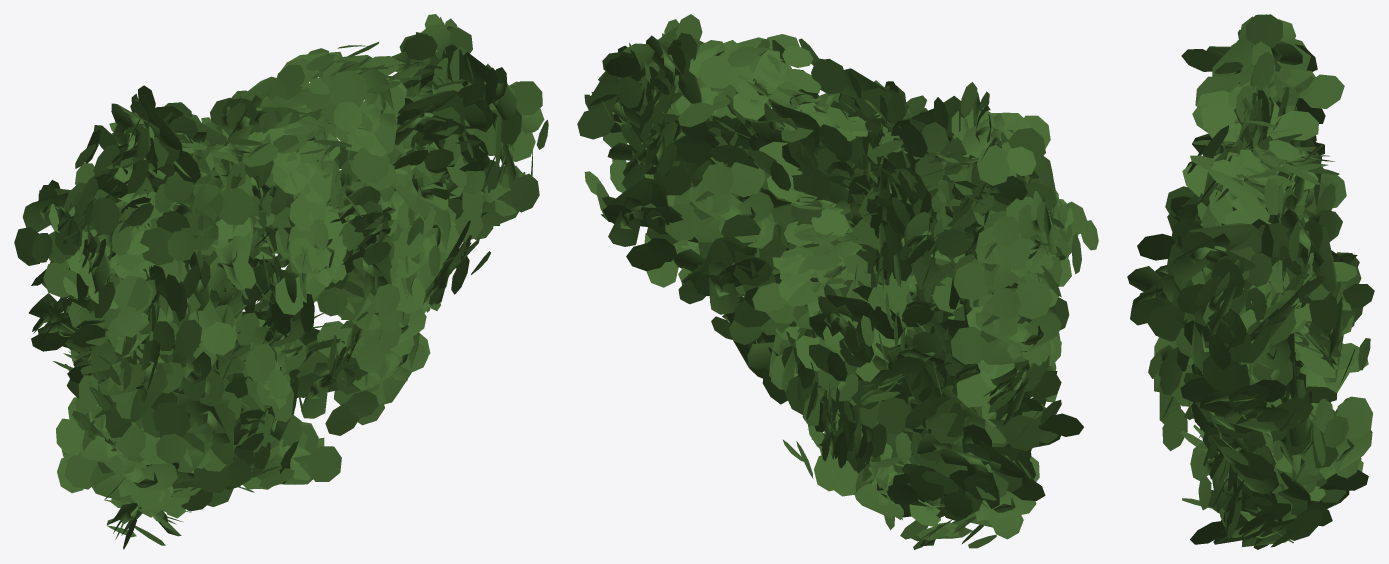
File: ivy_arrosoir.fbx
The picture shows the model from 3 angles, left to right: view 1: azimuth 30°, elevation 25°; view 2: azimuth 150°, elevation 25°; view 3: azimuth 270°, elevation 25°; orthographic projection. The views are drawn at different scales.
Parts seen in each view (by area): view 1: Plane; view 2: Plane; view 3: Plane.
Boxes of the visible parts, x1,y1,x2,y2 form: Plane: [14, 14, 548, 549]; Plane: [577, 14, 1098, 549]; Plane: [1127, 14, 1374, 549].
Bounding box in the file's own units: 166 × 143 × 63.84.
